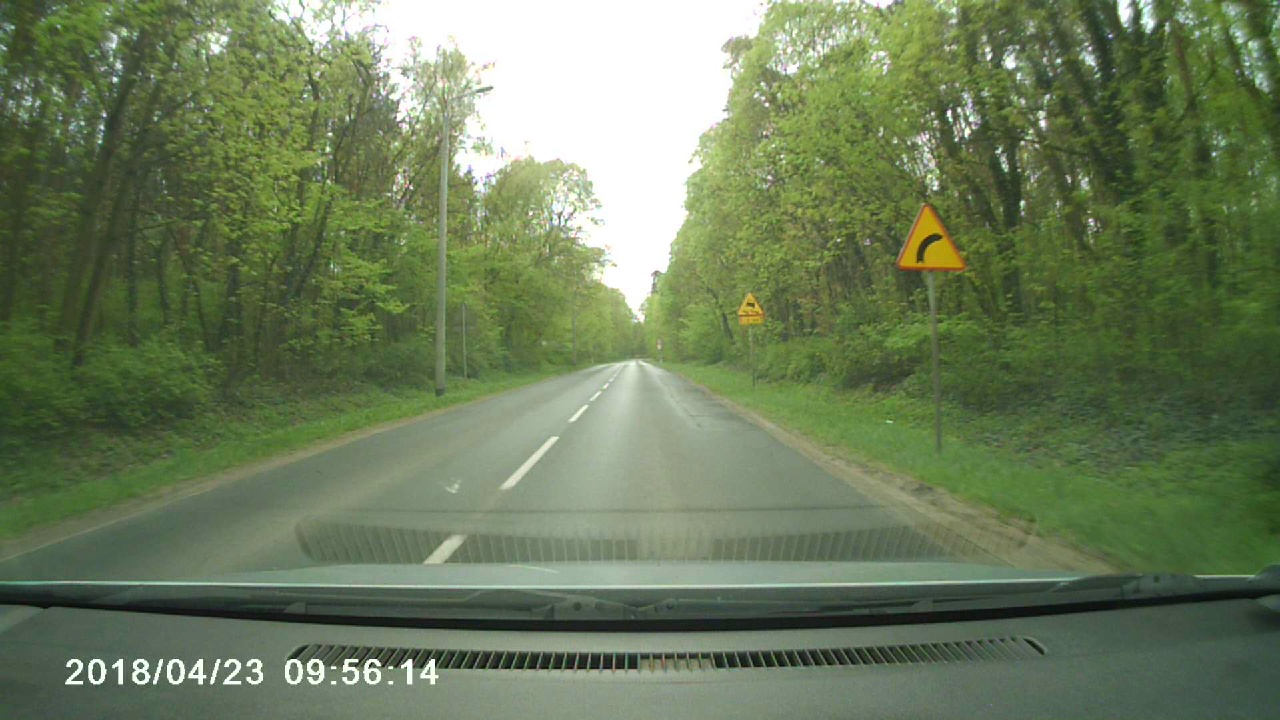A1: (896, 203, 968, 272)
